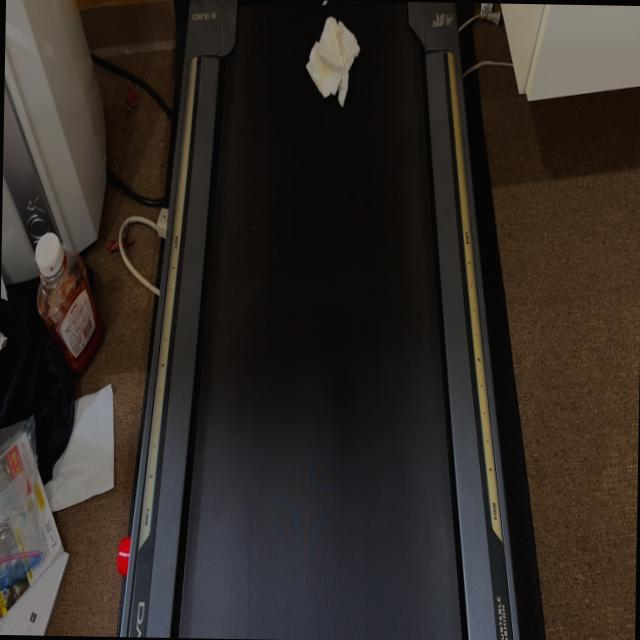Recycle: (298, 31, 426, 137)
